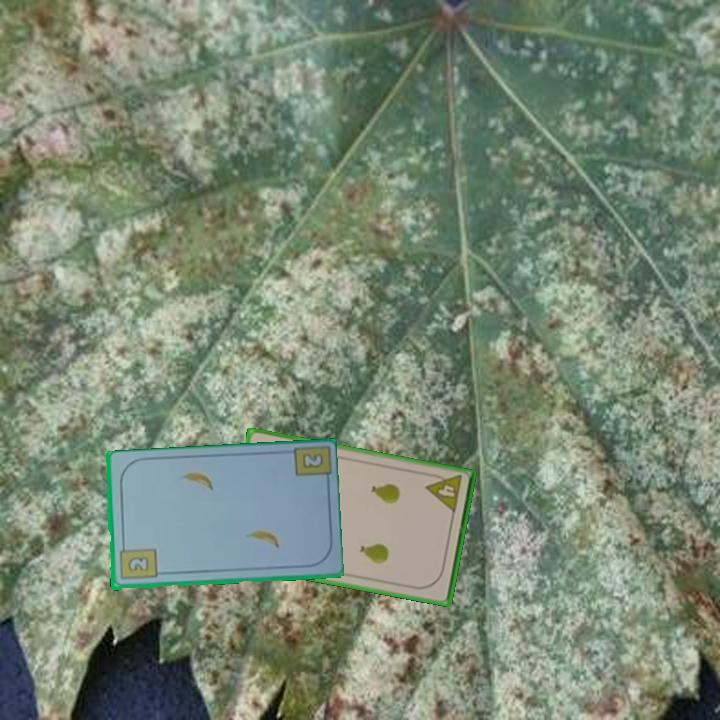2b: (116, 541, 159, 583), (299, 450, 326, 471)
4p: (423, 470, 464, 516)
